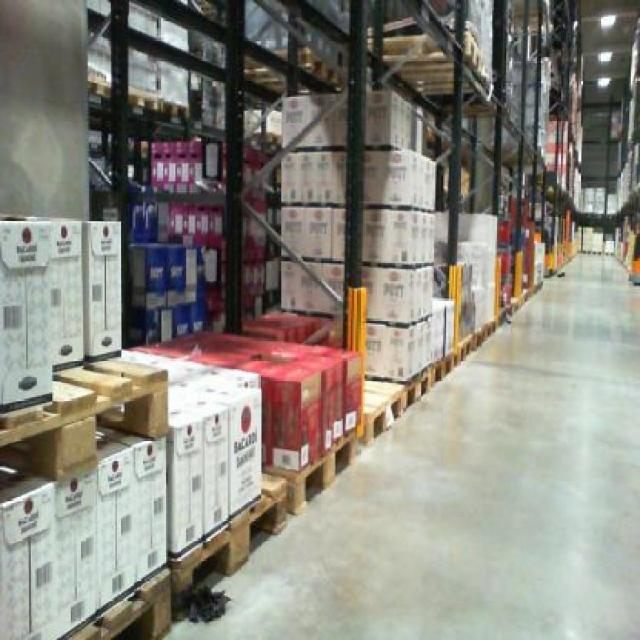ground: (160, 252, 638, 638)
pallet: (0, 350, 176, 501), (174, 471, 291, 622), (51, 563, 180, 638), (265, 421, 364, 515), (408, 317, 508, 410), (81, 65, 196, 126), (363, 371, 413, 449)
